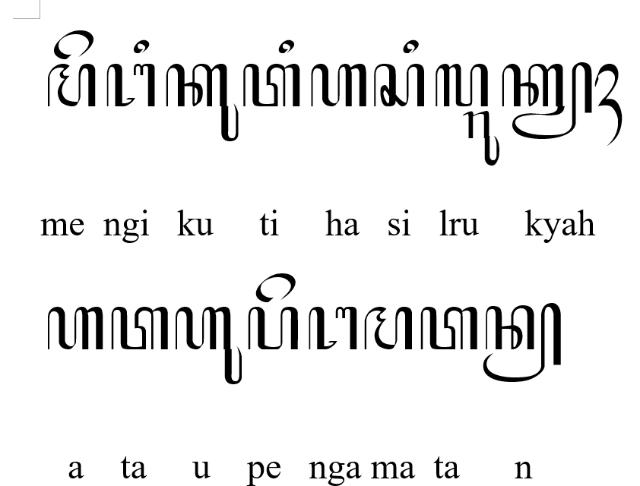-n: (482, 303, 562, 383)
_h1: (594, 63, 622, 147)
e: (52, 29, 94, 60), (256, 272, 296, 304)
h: (46, 306, 104, 352), (309, 63, 367, 107)
hu: (176, 306, 244, 384)
i: (402, 39, 420, 55), (133, 38, 149, 54), (279, 38, 295, 54)
ku: (164, 62, 240, 142)
ky: (501, 62, 593, 140)
l: (434, 62, 488, 108)
m: (46, 62, 96, 108), (363, 306, 412, 350)
nga: (106, 62, 156, 108), (307, 307, 358, 351)
p: (248, 306, 300, 350)
ru: (462, 110, 500, 166)
s: (373, 63, 425, 107)
t: (242, 62, 300, 108), (111, 306, 169, 352), (419, 306, 478, 350)
